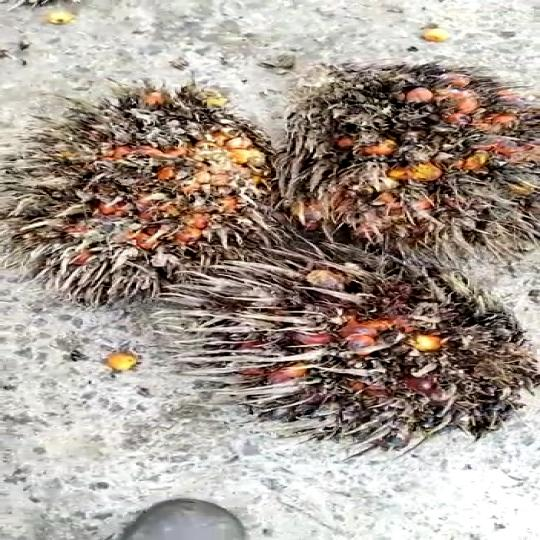terlalu masak: (147, 241, 540, 453), (0, 84, 276, 300), (280, 53, 540, 232)
